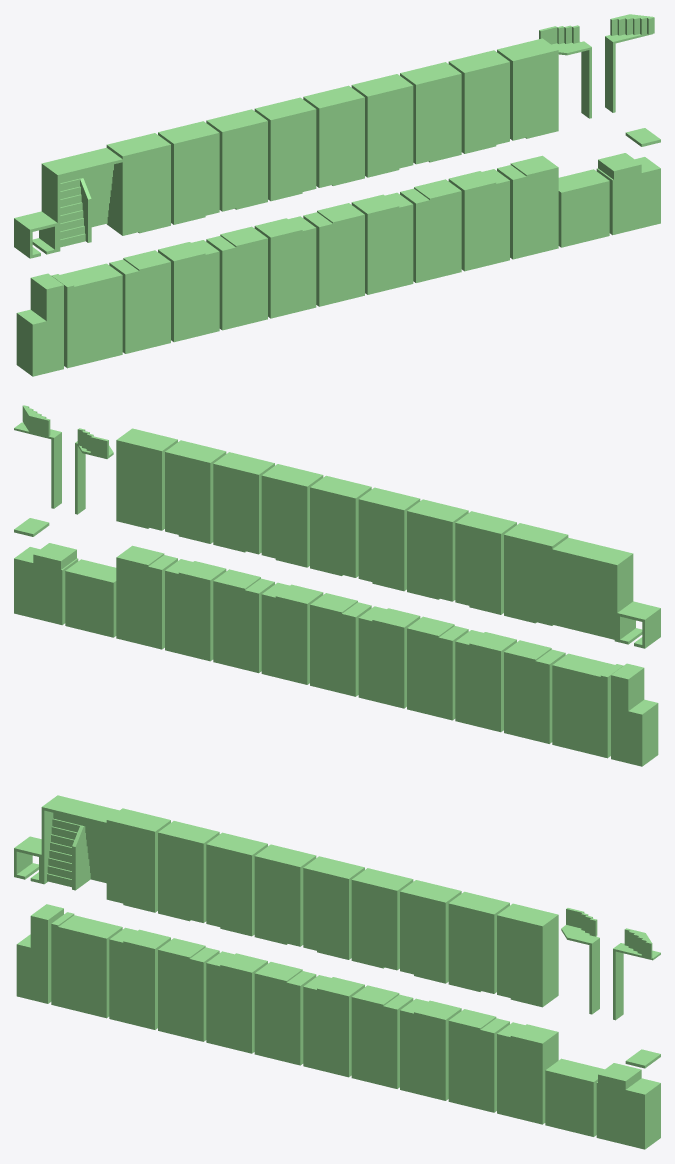
The model's file is Piso 2.obj.
3 views of the same model, one above another, from view 1: azimuth 30°, elevation 25°; view 2: azimuth 150°, elevation 25°; view 3: azimuth 330°, elevation 25° (orthographic).
Parts seen in each view (by area): view 1: Cuerpo8, Cuerpo2, Cuerpo1, Cuerpo9, Cuerpo21, Cuerpo5, Cuerpo18, Cuerpo12, Cuerpo15, Cuerpo14, Cuerpo19, Cuerpo20 (+15 smaller); view 2: Cuerpo8, Cuerpo2, Cuerpo9, Cuerpo21, Cuerpo1, Cuerpo18, Cuerpo5, Cuerpo19, Cuerpo12, Cuerpo14, Cuerpo15, Cuerpo20 (+15 smaller); view 3: Cuerpo8, Cuerpo6, Cuerpo2, Cuerpo21, Cuerpo17, Cuerpo15, Cuerpo10, Cuerpo3, Cuerpo16, Cuerpo20, Cuerpo7, Cuerpo12 (+15 smaller).
Boxes of the visible parts, bbox=[...] form: Cuerpo8: bbox=[41, 133, 170, 251]; Cuerpo2: bbox=[51, 263, 122, 368]; Cuerpo1: bbox=[109, 250, 170, 353]; Cuerpo9: bbox=[303, 203, 364, 306]; Cuerpo21: bbox=[497, 155, 558, 259]; Cuerpo5: bbox=[206, 226, 267, 330]; Cuerpo18: bbox=[400, 179, 461, 282]; Cuerpo12: bbox=[351, 74, 413, 177]; Cuerpo15: bbox=[254, 97, 316, 201]; Cuerpo14: bbox=[448, 50, 509, 153]; Cuerpo19: bbox=[158, 121, 219, 224]; Cuerpo20: bbox=[400, 62, 461, 164]; Cuerpo8: bbox=[504, 523, 633, 641]; Cuerpo2: bbox=[552, 653, 623, 758]; Cuerpo9: bbox=[310, 593, 371, 696]; Cuerpo21: bbox=[116, 545, 177, 649]; Cuerpo1: bbox=[504, 640, 565, 743]; Cuerpo18: bbox=[213, 569, 274, 673]; Cuerpo5: bbox=[407, 616, 468, 720]; Cuerpo19: bbox=[455, 511, 516, 614]; Cuerpo12: bbox=[261, 464, 323, 567]; Cuerpo14: bbox=[165, 440, 226, 543]; Cuerpo15: bbox=[358, 487, 420, 591]; Cuerpo20: bbox=[213, 452, 274, 554]; Cuerpo8: bbox=[41, 795, 170, 912]; Cuerpo6: bbox=[497, 903, 558, 1007]; Cuerpo2: bbox=[51, 912, 122, 1018]; Cuerpo21: bbox=[497, 1022, 558, 1124]; Cuerpo17: bbox=[254, 962, 316, 1065]; Cuerpo15: bbox=[254, 844, 316, 946]; Cuerpo10: bbox=[351, 985, 413, 1088]; Cuerpo3: bbox=[158, 938, 219, 1041]; Cuerpo16: bbox=[448, 1009, 509, 1112]; Cuerpo20: bbox=[400, 880, 461, 983]; Cuerpo7: bbox=[303, 856, 364, 959]; Cuerpo12: bbox=[351, 868, 413, 970].
Size of the model in its own units: 45.6 by 13.9 by 2.8.
